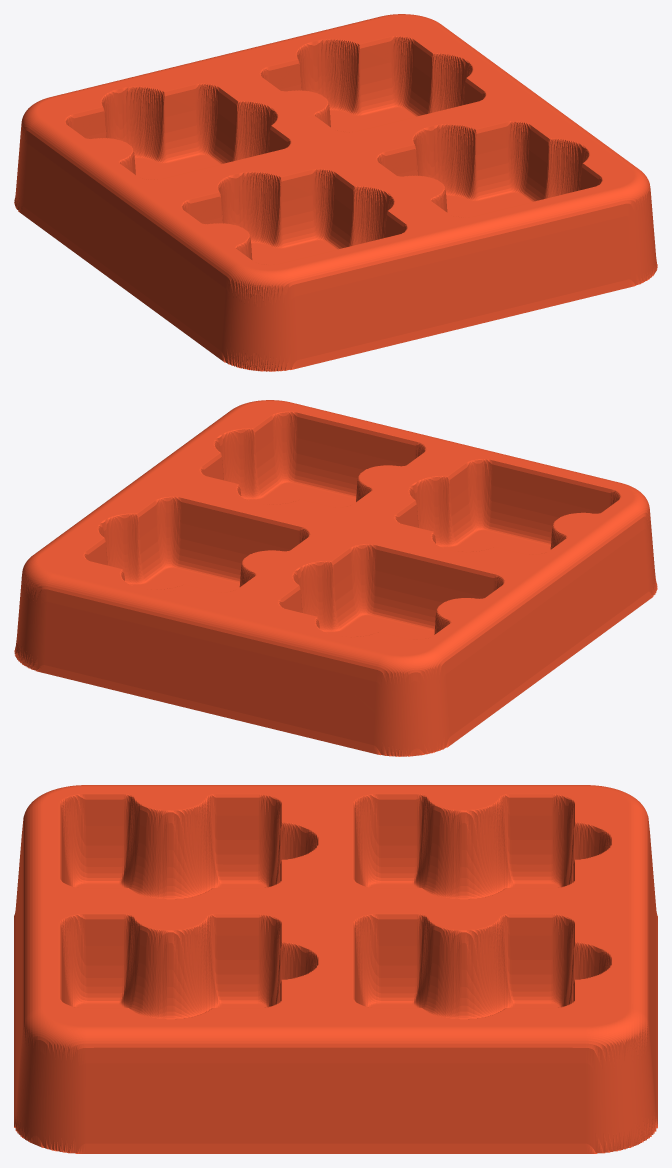
Rendered from mold.glb.
3 renders of one model, top to bottom at view 1: azimuth 30°, elevation 25°; view 2: azimuth 150°, elevation 25°; view 3: azimuth 270°, elevation 25°, orthographic. The views are drawn at different scales.
Visible parts, largest first — view 1: geometry_0; view 2: geometry_0; view 3: geometry_0.
Boxes of the visible parts, x1,y1,x2,y2 form: geometry_0: (14, 14, 657, 371); geometry_0: (14, 400, 657, 756); geometry_0: (14, 785, 657, 1153).
Size of the model in its own units: 0.0784 by 0.0159 by 0.0808.
